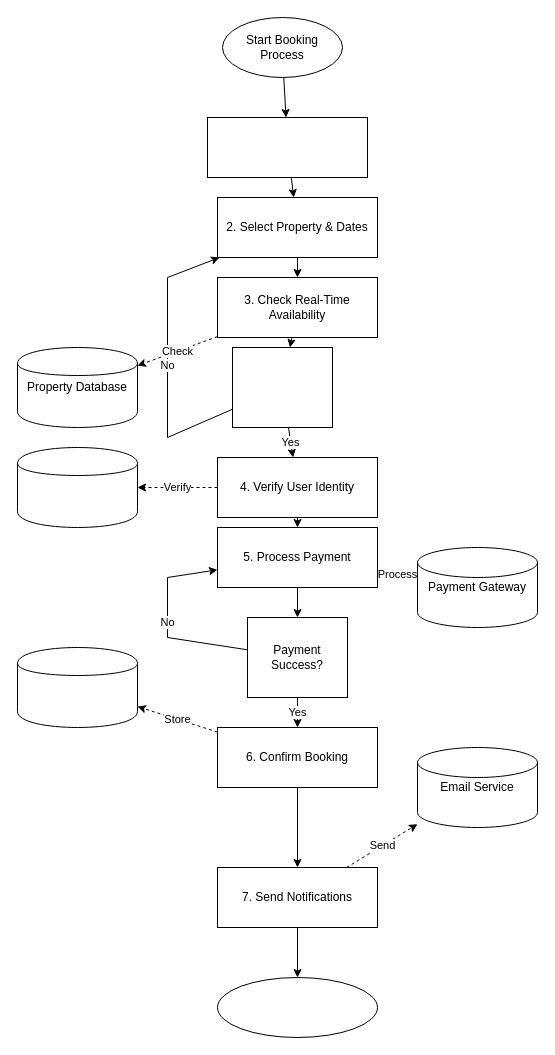
Some shapes in this 555 by 1055 pixel diagram are drawn without their labels. Here are the shapes that lost their labels. From the top down, the centre of each, then its label:
the point at 287,147: 1. Search Available Properties
the point at 282,387: Available?
the point at 77,487: User Database
the point at 77,687: Booking Database
the point at 297,1007: Booking Complete
